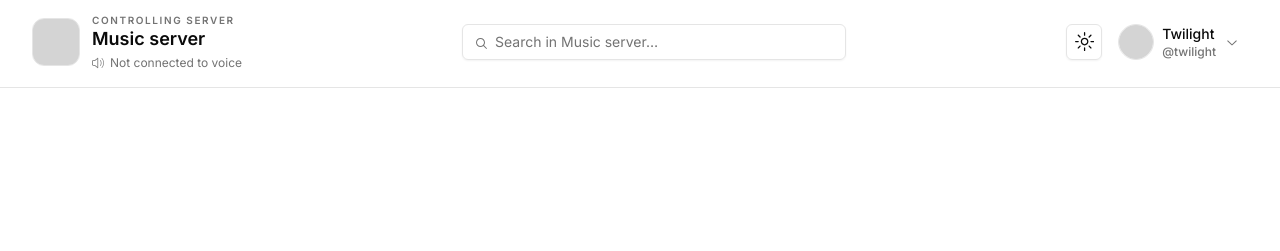
Test: provides account actions and explains how to open a different guild
Later steps or results of the test are not shown.
Click the button with aria-label "Account: Twilight".
click(1179, 42)  # box [1110,18,1248,66]
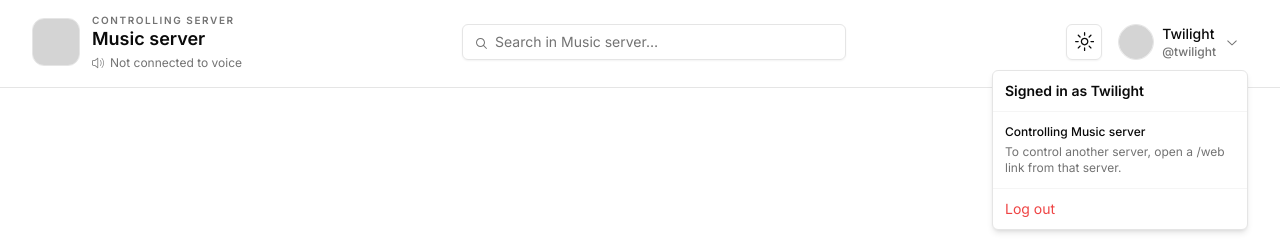
Now the text "Signed in as Twilight" is shown, box [1005,82,1144,99]
Now the text "Controlling Music server" is shown, box [1005,124,1145,139]
Now the text "To control another server, open a /web link from that server." is shown, box [1005,144,1235,176]
